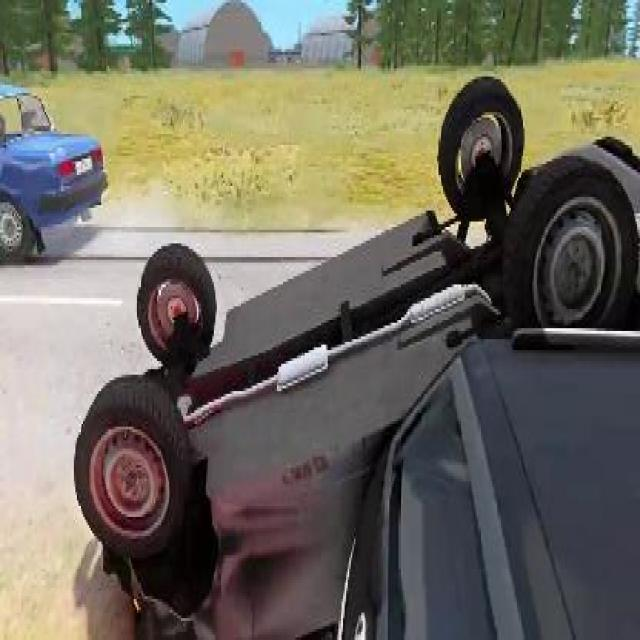accident: (72, 52, 638, 640)
